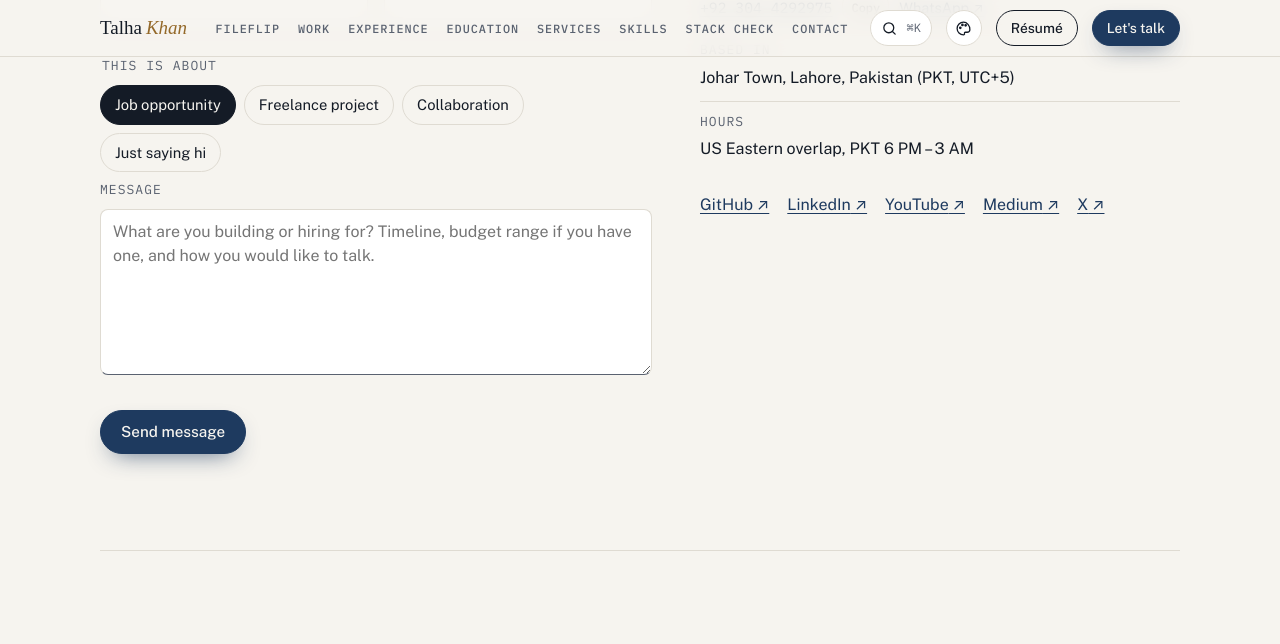
it: App › shows field errors instead of sending an incomplete message
(page scrolled)
Click the button "Send message" at [173, 432], box [100,410,246,454]
(page scrolled)
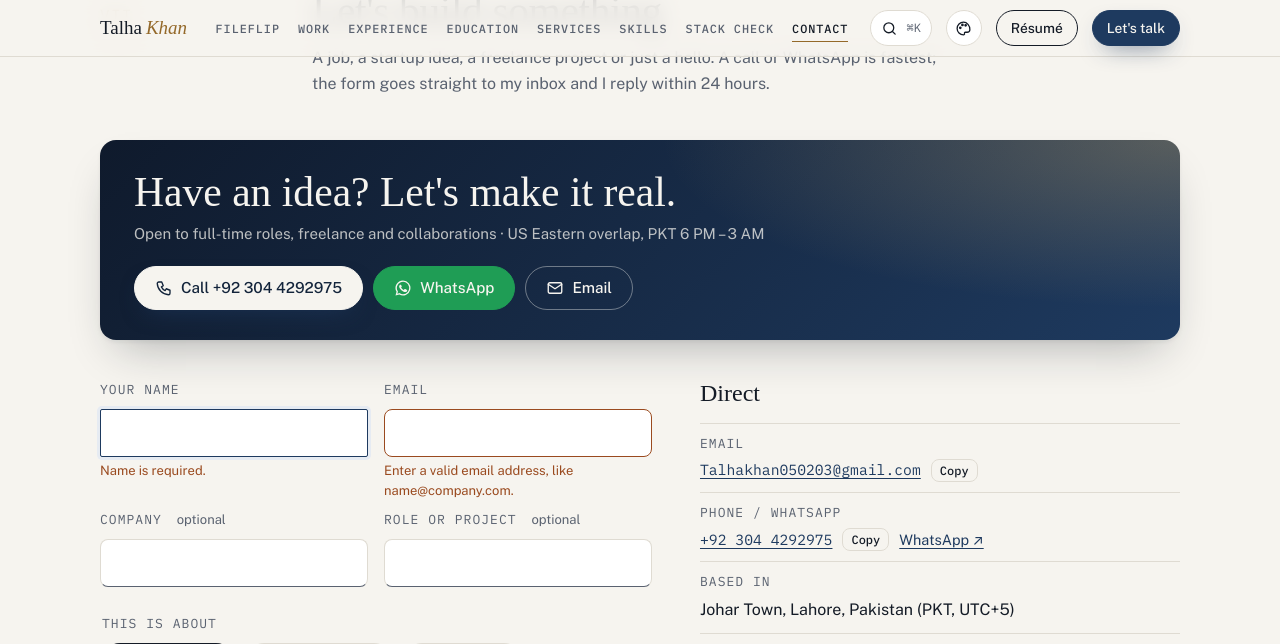
Now the text "Name is required." is shown, box [100,463,206,478]
